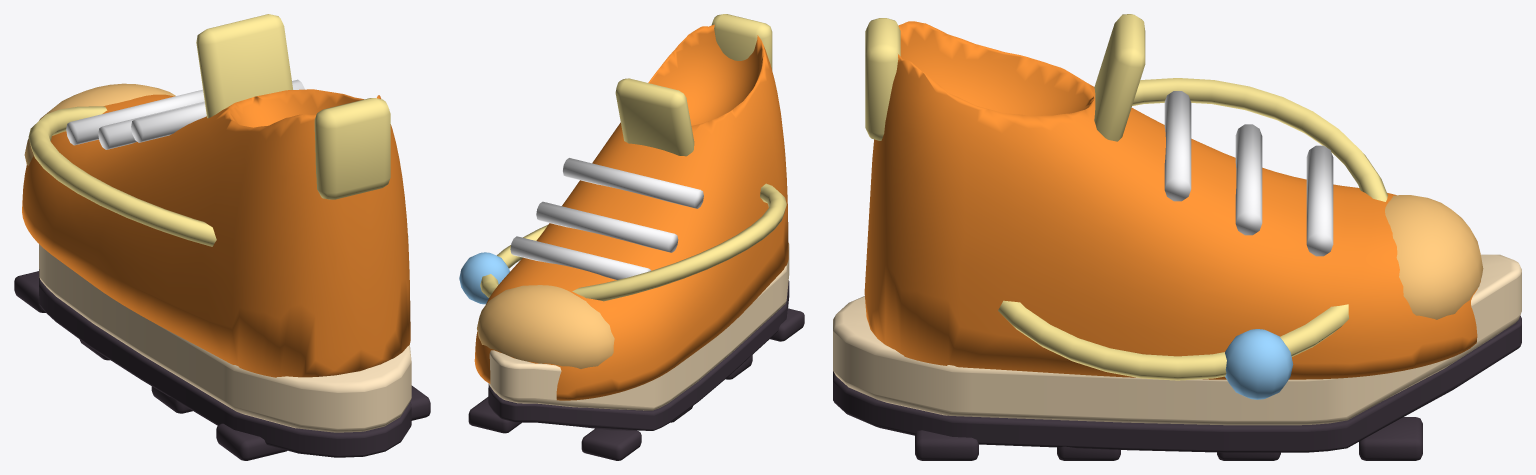
File: shoe_gravitygrips.fbx
The picture shows the model from 3 angles, left to right: view 1: azimuth 30°, elevation 25°; view 2: azimuth 150°, elevation 25°; view 3: azimuth 270°, elevation 25°; orthographic projection. The views are drawn at different scales.
Visible parts, largest first — view 1: shoe_gravitygrips; view 2: shoe_gravitygrips; view 3: shoe_gravitygrips.
Part boxes in pixels (box(x1,y1,x2,y2)): shoe_gravitygrips: box(14, 14, 430, 460); shoe_gravitygrips: box(459, 14, 804, 460); shoe_gravitygrips: box(833, 14, 1521, 460).
Bounding box in the file's own units: 2.41 × 2.37 × 3.88.
1 material, 1 textured.
